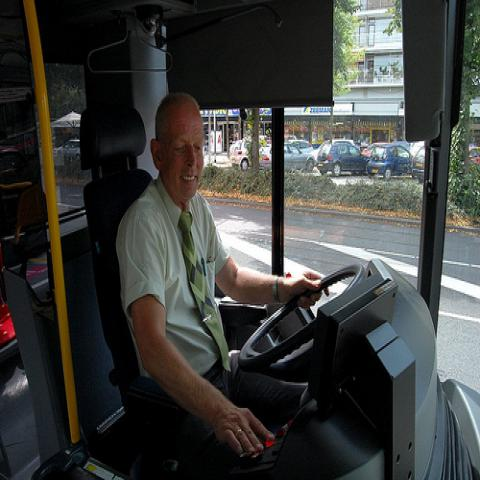car: (229, 134, 479, 183)
